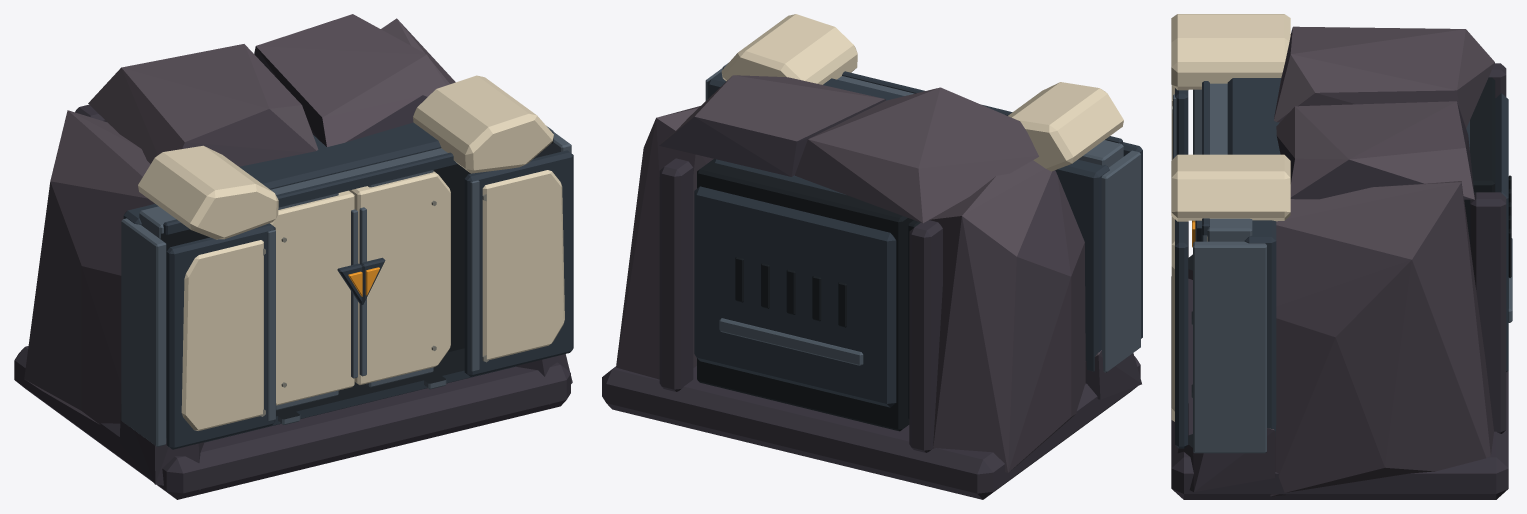
The model's file is ember-cache.glb.
The picture shows the model from 3 angles, left to right: view 1: azimuth 30°, elevation 25°; view 2: azimuth 150°, elevation 25°; view 3: azimuth 270°, elevation 25°; orthographic projection. The views are drawn at different scales.
Parts seen in each view (by area): view 1: CacheStructure, CacheDoorRight, CacheDoorLeft; view 2: CacheStructure; view 3: CacheStructure.
Part boxes in pixels (box(x1,y1,x2,y2)): CacheStructure: box(14, 14, 573, 499); CacheDoorRight: box(349, 170, 450, 387); CacheDoorLeft: box(270, 190, 362, 410); CacheStructure: box(602, 14, 1142, 499); CacheStructure: box(1171, 14, 1512, 499).
Size of the model in its own units: 2.2 by 1.6 by 1.52.
1 material, 1 textured.
